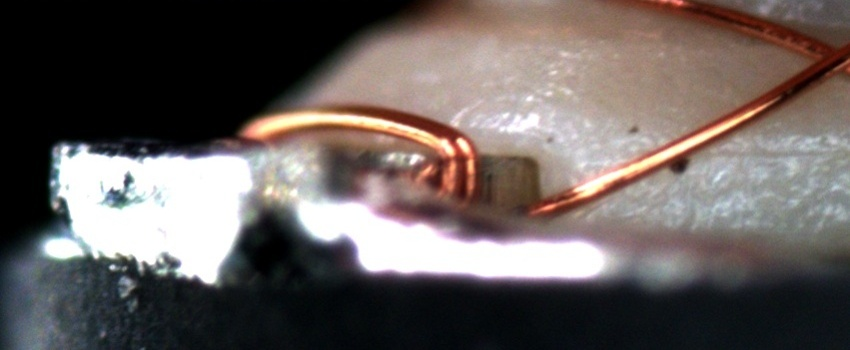CL: (785, 24, 846, 89)
DL: (595, 122, 849, 185)
TE: (231, 103, 483, 222)
